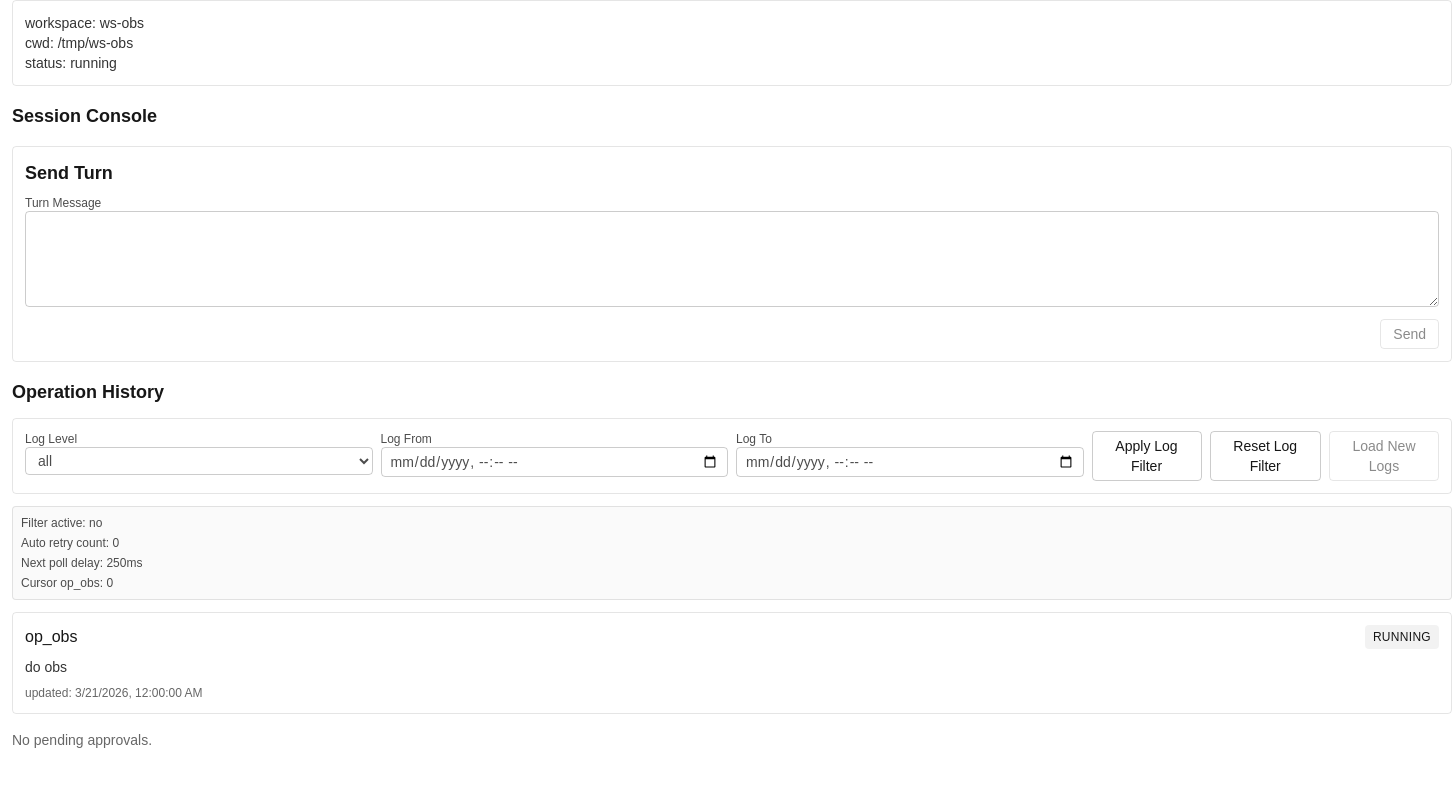
it: SessionDetailLive › shows log polling observability status and per-operation cursor
Select "error" in the dropdown labelled "Log Level" at {"x": 199, "y": 461}, box 25,447 -> 372,475
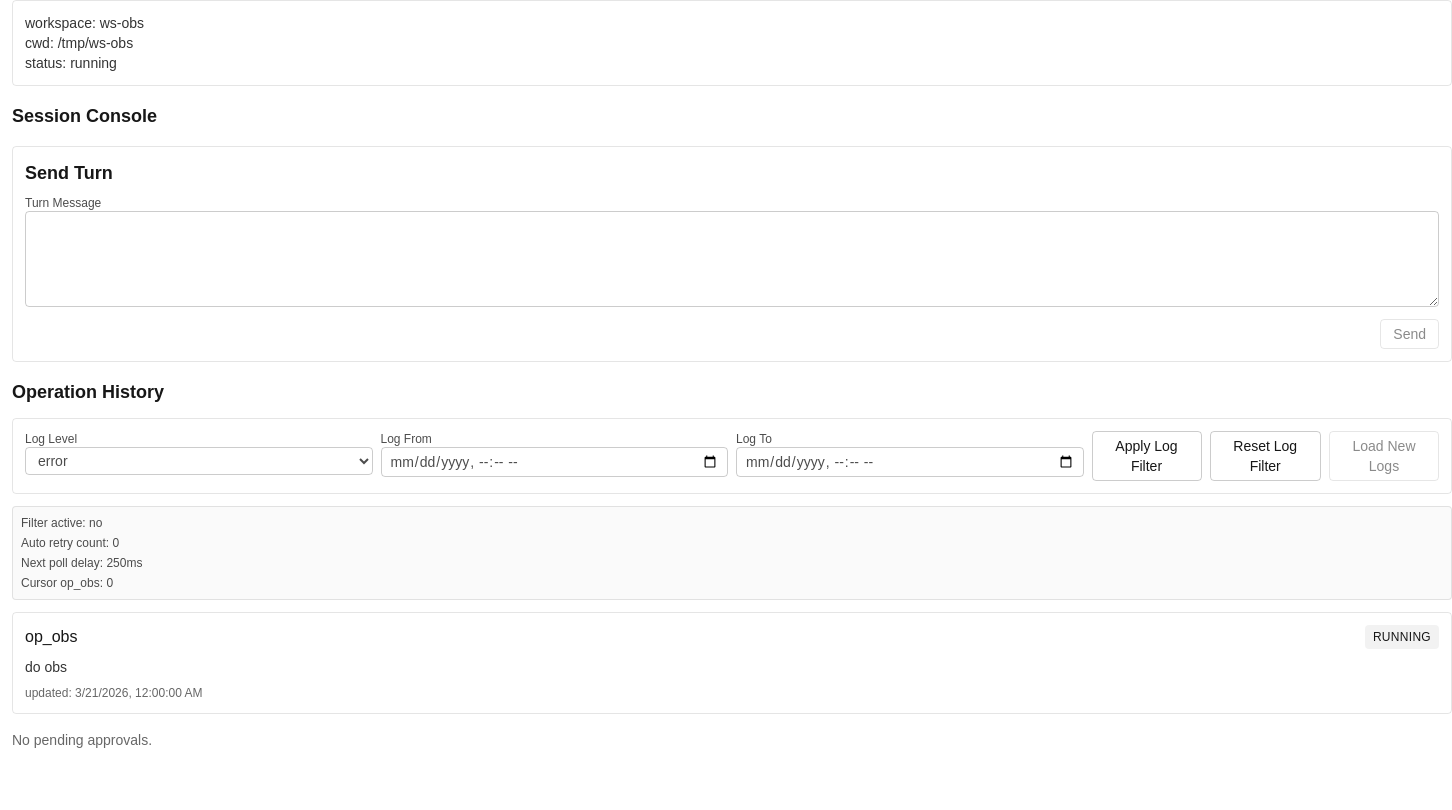
Click the button "Apply Log Filter".
click(1146, 456)  # box 1092,431 -> 1202,481
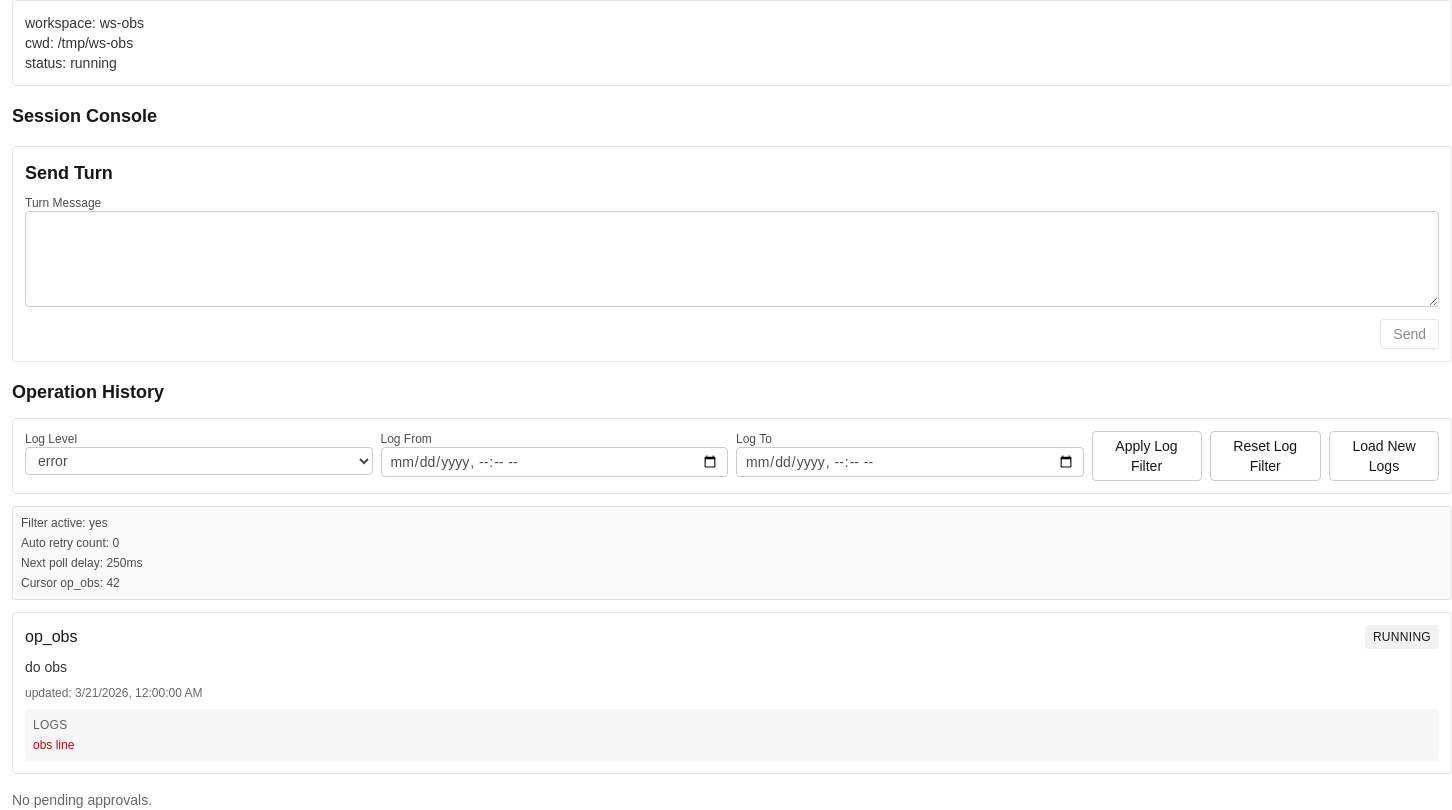
Expected: the text "Auto retry count: 0" is shown, 21,536 -> 119,550
Expected: the text "Filter active: yes" is shown, 21,516 -> 108,530
Expected: the text "Cursor op_obs: 42" is shown, 21,576 -> 120,590
